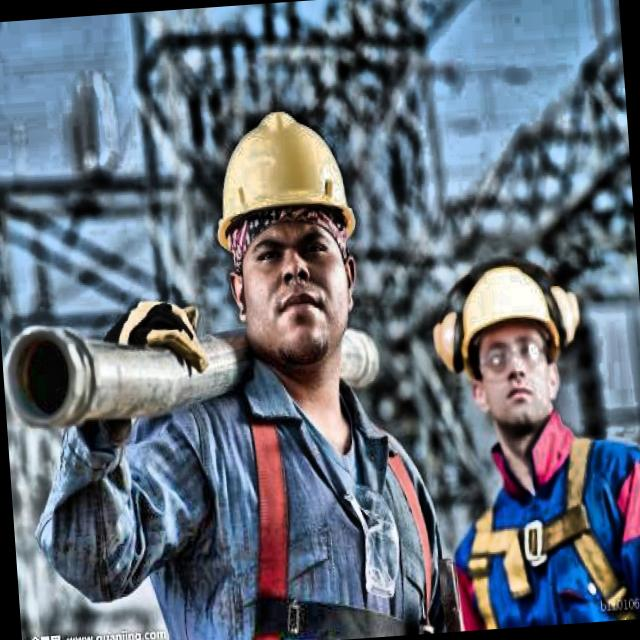helmet: (190, 67, 376, 416), (430, 239, 594, 454)
